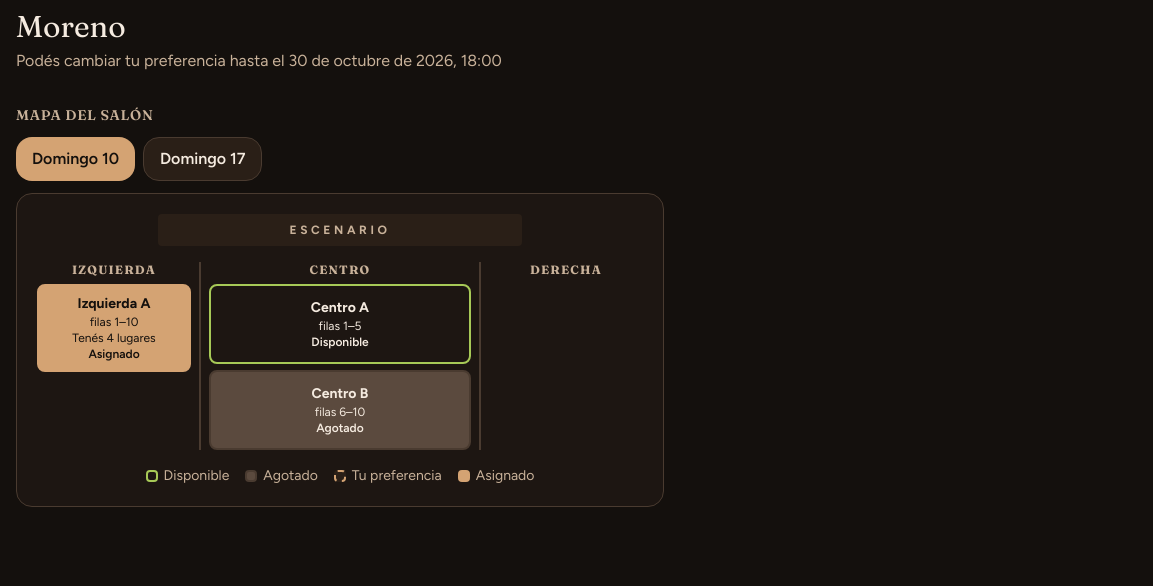
it: SedePanel › si falla la red revierte y avisa
The image size is (1153, 586).
Step 1. Click the button "Centro A filas 1–5 Disponible" → [340, 324], box [209,284,471,364]
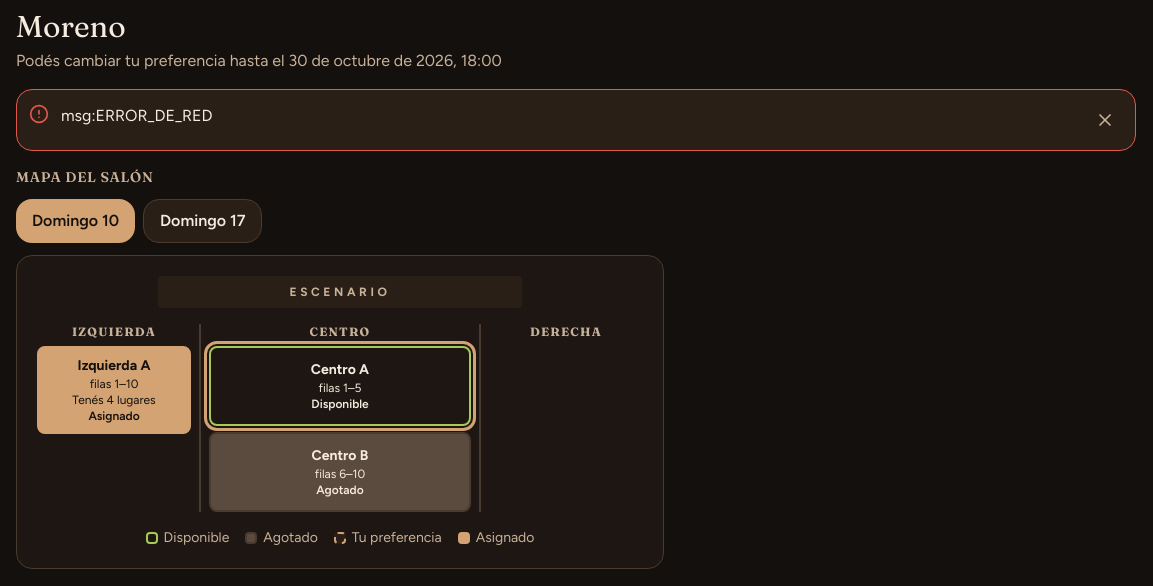
Check: the message reads "msg:ERROR_DE_RED", box [61,106,212,125]
